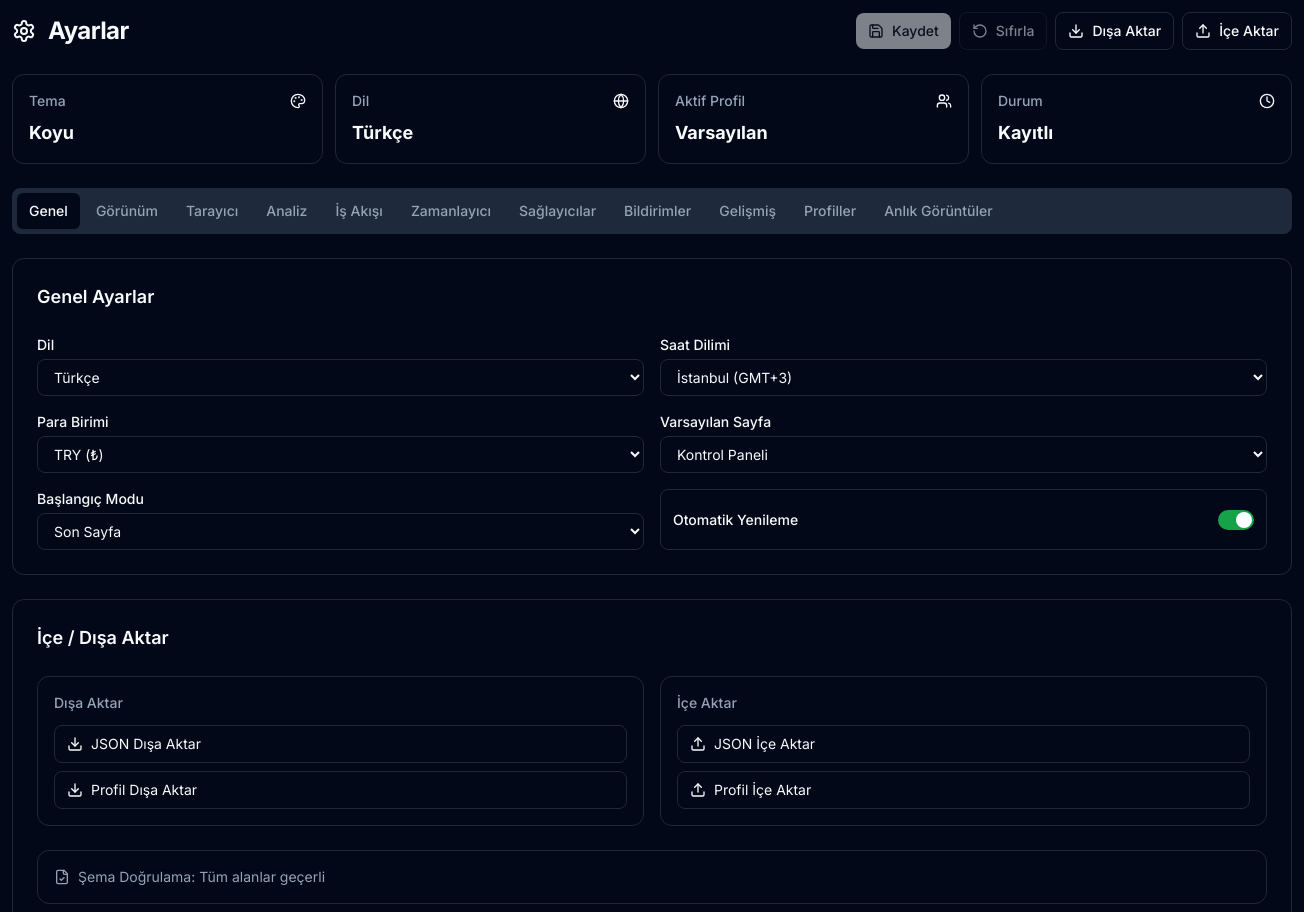
Test: SettingsPage › switches to notifications tab
This screenshot has width=1304, height=912.
Click the button "Bildirimler" at (658, 211), box 612,193 -> 703,229
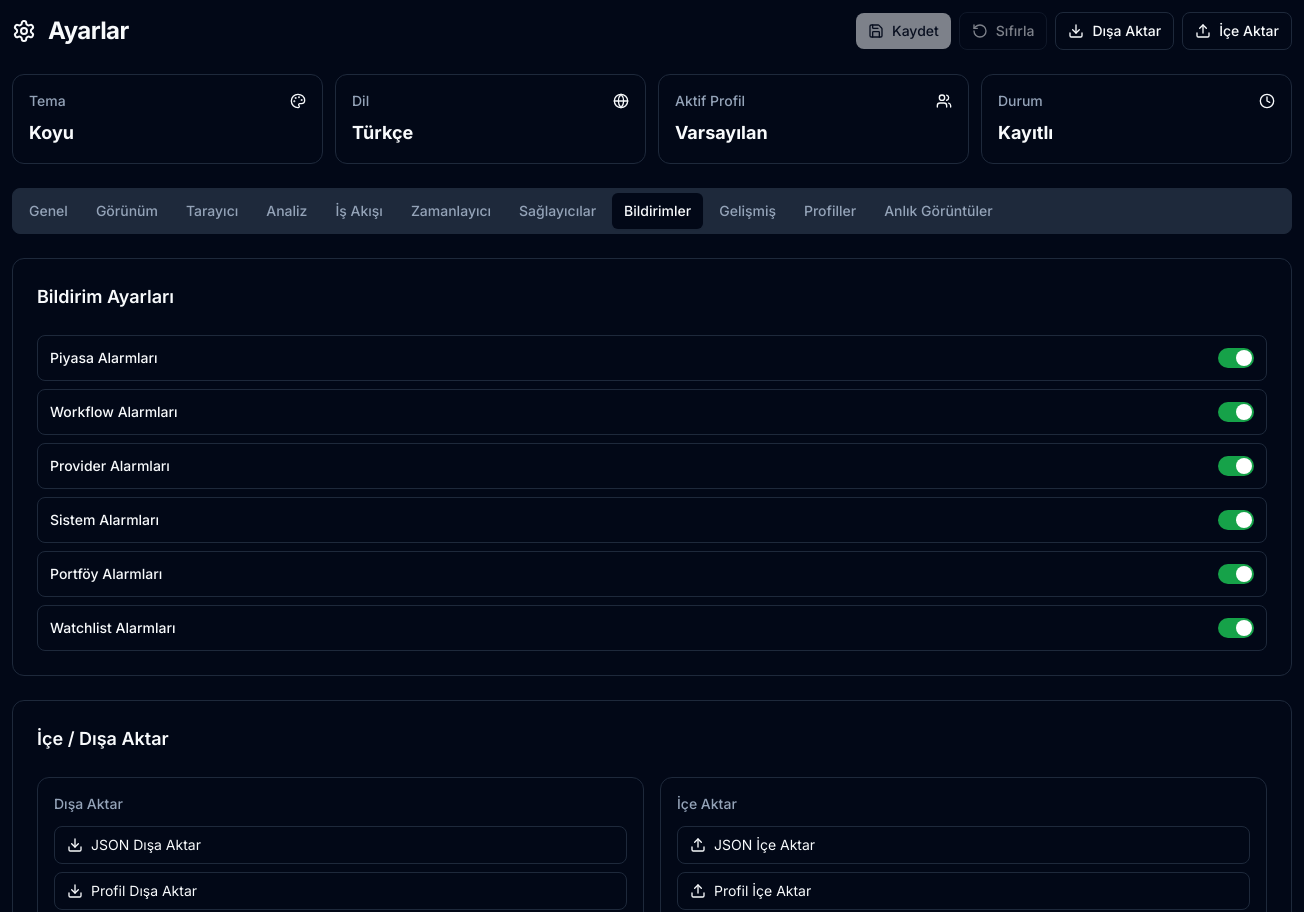
expect the heading "Bildirim Ayarları" is shown: met, box 37,286 -> 174,307
